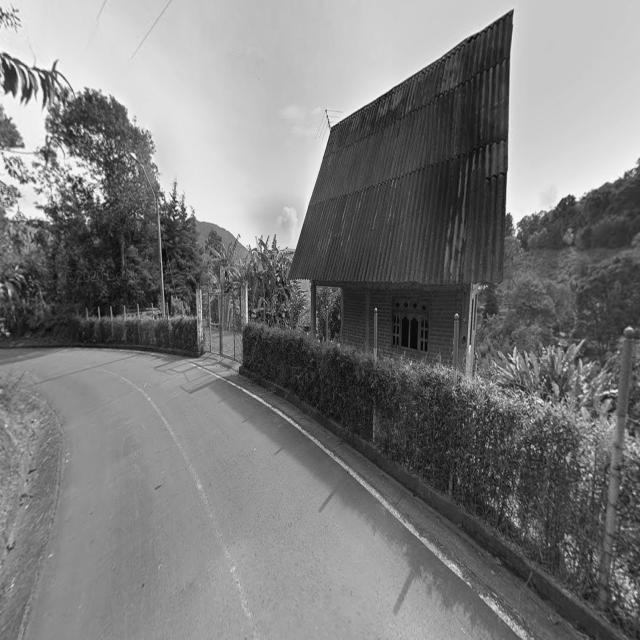Fachada: (290, 12, 513, 376)
Poste: (130, 152, 168, 316)
